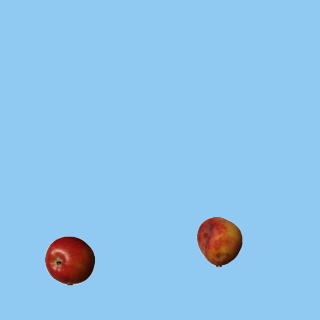Apple Braeburn: (44, 235, 94, 285)
Peach: (194, 216, 244, 266)
